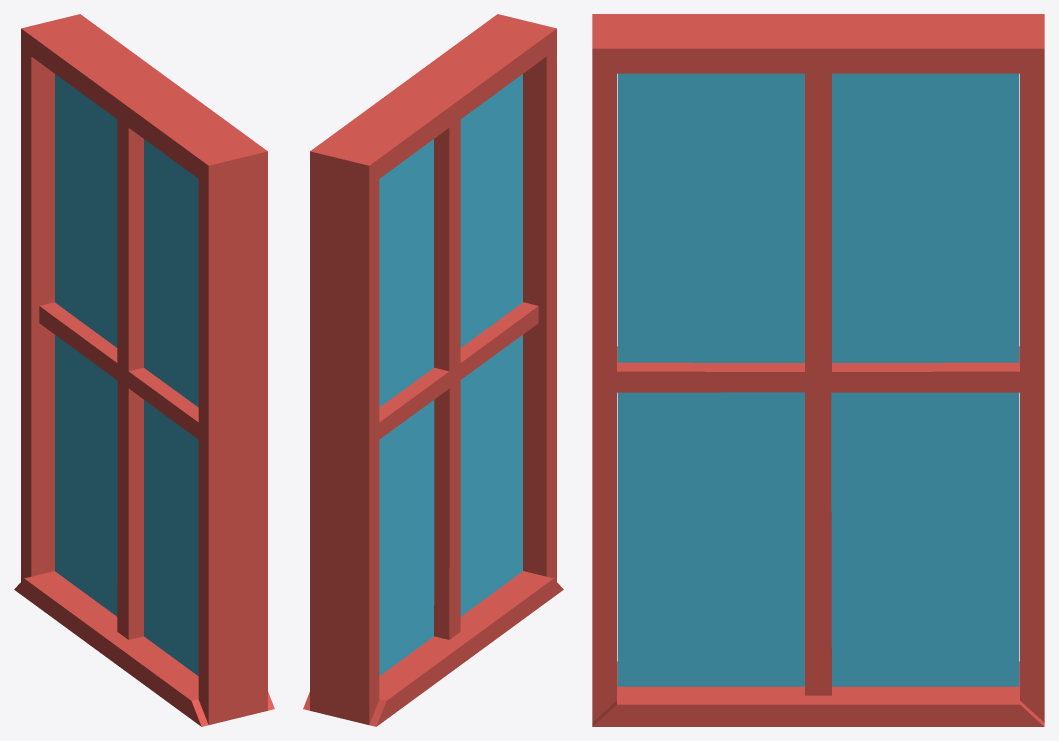
Rendered from Window.glb.
3 views of the same model, side by side, from view 1: azimuth 30°, elevation 25°; view 2: azimuth 150°, elevation 25°; view 3: azimuth 270°, elevation 25° (orthographic). The views are drawn at different scales.
Visible parts, largest first — view 1: Frame, Glass, Window Frame; view 2: Frame, Glass, Window Frame; view 3: Glass, Frame, Window Frame.
Boxes of the visible parts, <box> form: Frame: <box>14,14,274,726</box>; Glass: <box>55,74,198,675</box>; Window Frame: <box>39,119,198,639</box>; Frame: <box>303,14,563,726</box>; Glass: <box>379,74,522,675</box>; Window Frame: <box>379,119,538,639</box>; Glass: <box>617,73,1019,686</box>; Frame: <box>592,14,1044,726</box>; Window Frame: <box>617,73,1019,695</box>.
Bounding box in the file's own units: 0.6249 × 4.56 × 2.77.
